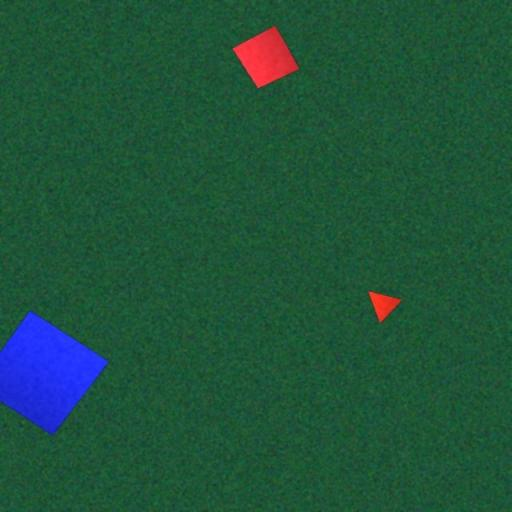BLUE_SQUARE: (0, 309, 110, 436)
RED_SQUARE: (232, 24, 301, 90)
